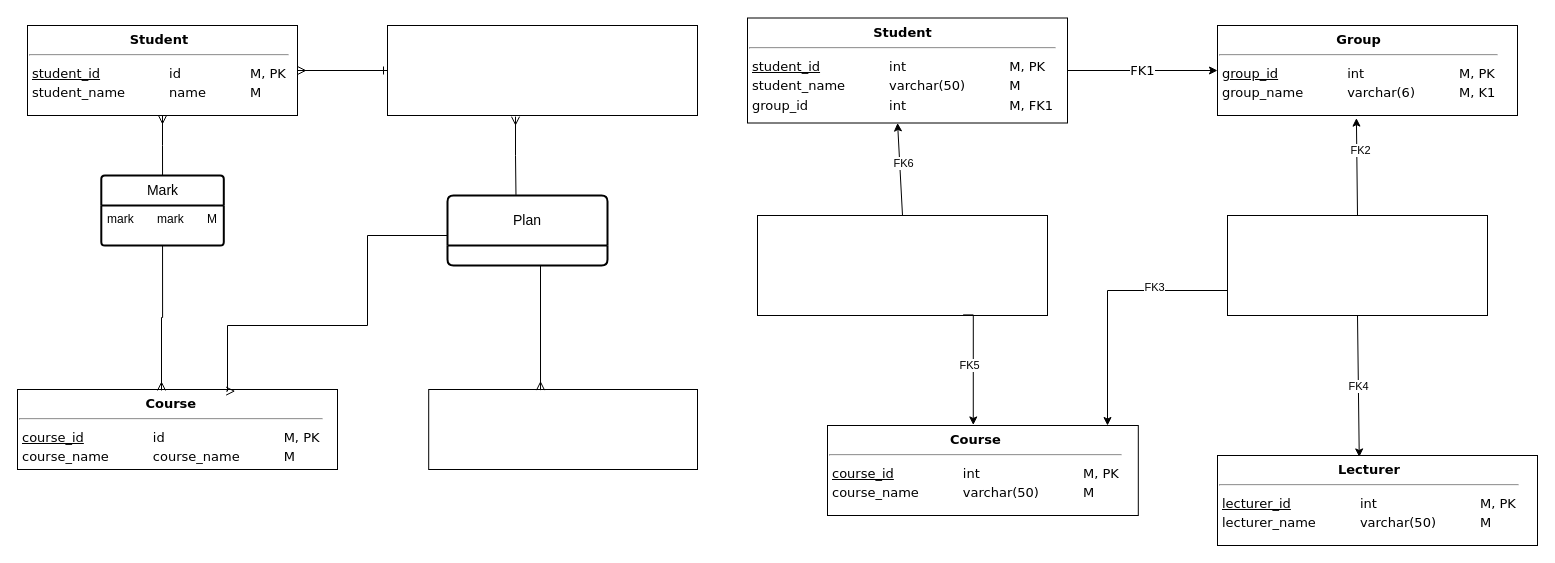
This 1555x563 diagram has some shape labels left out. The centre of each missing label's shape, as x and y in pixels:
Group group_id id M, PK group_name group_name M, K1: the point at 542,70
Lecturer lecturer_id id M, PK lecturer_name name M: the point at 563,429
Mark mark char(1) M student_id int M, PK, FK6 course_id int M, PK, FK5: the point at 902,265
Plan course_id int M, PK, FK3 group_id int M, PK, FK2 lecturer_id int M, FK4: the point at 1357,265
